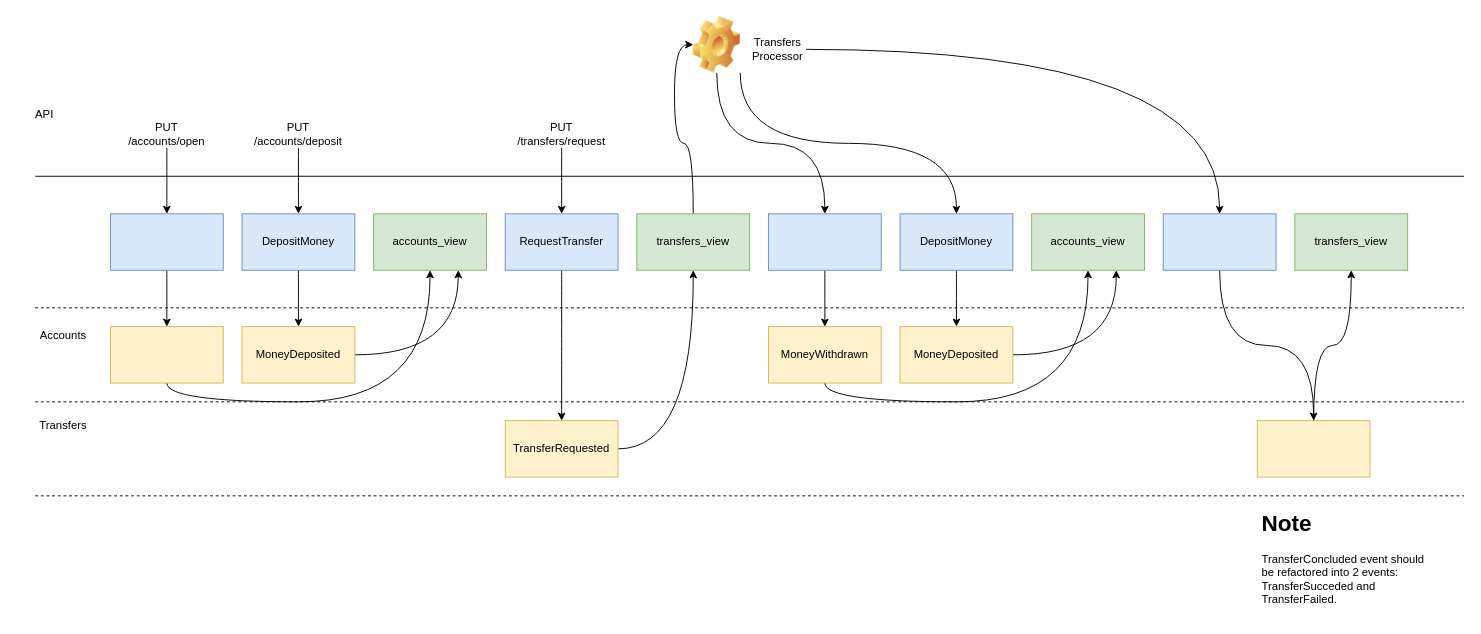
This 1481x634 diagram has some shape labels left out. The shapes that lost their labels are listed below. From the top down, each one's box as (x1, y1, x2, y2) in pixels, then its label:
(110, 213, 223, 270): OpenAccount
(768, 213, 881, 270): MakeWithdraw
(1162, 213, 1276, 270): RegisterResult
(110, 326, 223, 383): AccountOpened
(1256, 420, 1370, 477): TransferConcluded
